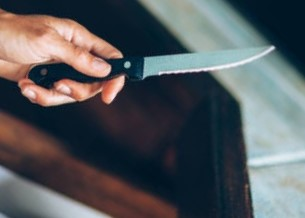knife: (27, 43, 277, 88)
